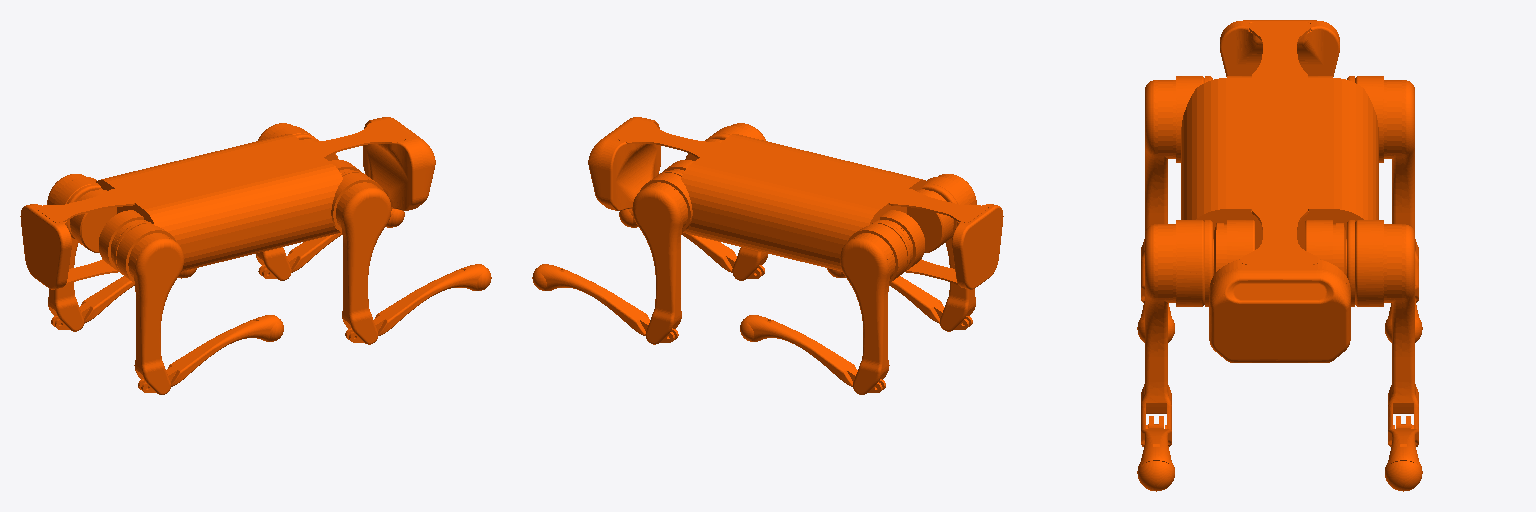
--- Facts derived from the render (not from the file) ---
Views: 3 orthographic renders of the robot side by side, from view 1: azimuth 30°, elevation 25°; view 2: azimuth 150°, elevation 25°; view 3: azimuth 270°, elevation 25°.
Robot: a1_description — 23 links, 22 joints (12 revolute, 10 fixed); root link base; default pose: all joints at 0 but 4 set to mid-range because 0 is outside their limits (FR_calf_joint = -1.81, FL_calf_joint = -1.81, RR_calf_joint = -1.81, RL_calf_joint = -1.81).
Visible links, largest first — view 1: trunk, RR_thigh, FR_thigh, FR_calf, RR_calf, RL_thigh, RL_hip, FL_thigh, RL_calf, FL_calf, RR_hip; view 2: trunk, RL_thigh, FL_thigh, FL_calf, RR_thigh, RL_calf, RR_hip, FR_thigh, RR_calf, FR_calf, RL_hip; view 3: trunk, FL_thigh, FR_thigh, RR_thigh, RL_thigh, FR_calf, FL_calf, FR_hip, FL_hip.
Link boxes in pixels (bbox=[...]): trunk: bbox=[20, 117, 435, 289]; RR_thigh: bbox=[114, 221, 183, 394]; FR_thigh: bbox=[331, 171, 391, 344]; FR_calf: bbox=[345, 264, 491, 342]; RR_calf: bbox=[138, 315, 283, 392]; RL_thigh: bbox=[47, 174, 101, 331]; RL_hip: bbox=[70, 189, 116, 252]; FL_thigh: bbox=[256, 123, 318, 280]; RL_calf: bbox=[51, 268, 196, 329]; FL_calf: bbox=[258, 209, 404, 278]; RR_hip: bbox=[99, 210, 145, 270]; trunk: bbox=[588, 117, 1003, 289]; RL_thigh: bbox=[840, 221, 909, 394]; FL_thigh: bbox=[632, 171, 692, 344]; FL_calf: bbox=[532, 264, 678, 342]; RR_thigh: bbox=[922, 174, 976, 331]; RL_calf: bbox=[740, 315, 885, 392]; RR_hip: bbox=[907, 189, 953, 252]; FR_thigh: bbox=[705, 123, 767, 280]; RR_calf: bbox=[827, 268, 972, 329]; FR_calf: bbox=[619, 209, 764, 278]; RL_hip: bbox=[878, 210, 924, 270]; trunk: bbox=[1181, 20, 1378, 362]; FL_thigh: bbox=[1346, 220, 1418, 446]; FR_thigh: bbox=[1141, 220, 1213, 446]; RR_thigh: bbox=[1141, 76, 1212, 302]; RL_thigh: bbox=[1347, 76, 1418, 302]; FR_calf: bbox=[1137, 416, 1174, 491]; FL_calf: bbox=[1385, 416, 1422, 491]; FR_hip: bbox=[1214, 220, 1254, 274]; FL_hip: bbox=[1305, 220, 1345, 274].
Size in the robot's own frame: 0.706 by 0.3016 by 0.2695 metres.
Meshes: 5 distinct files referenced, 13 mesh visuals loaded (5 Collada DAE).

URDF robot description (a1_description):
<?xml version="1.0" encoding="utf-8"?>
<!-- =================================================================================== -->
<!-- |    This document was autogenerated by xacro from robot.xacro                    | -->
<!-- |    EDITING THIS FILE BY HAND IS NOT RECOMMENDED                                 | -->
<!-- =================================================================================== -->
<robot name="a1_description">
  <!-- dynamics inertial value -->
  <!-- trunk -->
  <!-- <xacro:property name="trunk_mass" value="5.660"/>
    <xacro:property name="trunk_com_x" value="0.012731"/>
    <xacro:property name="trunk_com_y" value="0.002186"/>
    <xacro:property name="trunk_com_z" value="0.000515"/>
    <xacro:property name="trunk_ixx" value="0.016839930"/>
    <xacro:property name="trunk_ixy" value="0.000083902"/>
    <xacro:property name="trunk_ixz" value="0.000597679"/>
    <xacro:property name="trunk_iyy" value="0.056579028"/>
    <xacro:property name="trunk_iyz" value="0.000025134"/>
    <xacro:property name="trunk_izz" value="0.064713601"/> -->
  <material name="black">
    <color rgba="0.0 0.0 0.0 1.0"/>
  </material>
  <material name="blue">
    <color rgba="0.0 0.0 0.8 1.0"/>
  </material>
  <material name="green">
    <color rgba="0.0 0.8 0.0 1.0"/>
  </material>
  <material name="grey">
    <color rgba="0.2 0.2 0.2 1.0"/>
  </material>
  <material name="silver">
    <color rgba="0.913725490196 0.913725490196 0.847058823529 1.0"/>
  </material>
  <material name="orange">
    <color rgba="1.0 0.423529411765 0.0392156862745 1.0"/>
  </material>
  <material name="brown">
    <color rgba="0.870588235294 0.811764705882 0.764705882353 1.0"/>
  </material>
  <material name="red">
    <color rgba="0.8 0.0 0.0 1.0"/>
  </material>
  <material name="white">
    <color rgba="1.0 1.0 1.0 1.0"/>
  </material>
  <!-- ros_control plugin -->
  <gazebo>
    <plugin filename="libgazebo_ros_control.so" name="gazebo_ros_control">
      <robotNamespace>/a1_gazebo</robotNamespace>
      <robotSimType>gazebo_ros_control/DefaultRobotHWSim</robotSimType>
    </plugin>
  </gazebo>
  <!-- Show the trajectory of trunk center. -->
  <!-- <gazebo>
    <plugin filename="libnewLinkPlot3DPlugin.so" name="3dplotTrunk">
      <frequency>10</frequency>
      <plot>
        <link>base</link>
        <pose>0 0 0 0 0 0</pose>
        <material>Gazebo/Yellow</material>
      </plot>
    </plugin>
  </gazebo> -->
  <!-- Show the trajectory of foot. You can add another trajectory about another foot. -->
  <!-- <gazebo>
    <plugin filename="libnewLinkPlot3DPlugin.so" name="3dplot">
      <frequency>1000</frequency>
      <plot>
        <link>FR_calf</link>
        <pose>0 0 -0.2 0 0 0</pose>
        <material>Gazebo/Yellow</material>
      </plot>
    </plugin>
  </gazebo>
  <gazebo>
    <plugin filename="libnewLinkPlot3DPlugin.so" name="3dplot">
      <frequency>1000</frequency>
      <plot>
        <link>FL_calf</link>
        <pose>0 0 -0.2 0 0 0</pose>
        <material>Gazebo/Red</material>
      </plot>
    </plugin>
  </gazebo>
  <gazebo>
    <plugin filename="libnewLinkPlot3DPlugin.so" name="3dplot">
      <frequency>1000</frequency>
      <plot>
        <link>RR_calf</link>
        <pose>0 0 -0.2 0 0 0</pose>
        <material>Gazebo/Blue</material>
      </plot>
    </plugin>
  </gazebo>
  <gazebo>
    <plugin filename="libnewLinkPlot3DPlugin.so" name="3dplot">
      <frequency>1000</frequency>
      <plot>
        <link>RL_calf</link>
        <pose>0 0 -0.2 0 0 0</pose>
        <material>Gazebo/Black</material>
      </plot>
    </plugin>
  </gazebo> -->
  <gazebo>
    <plugin filename="libgazebo_ros_force.so" name="gazebo_ros_force">
      <bodyName>trunk</bodyName>
      <topicName>/apply_force/trunk</topicName>
    </plugin>
  </gazebo>
  <gazebo reference="imu_link">
    <gravity>true</gravity>
    <sensor name="imu_sensor" type="imu">
      <always_on>true</always_on>
      <update_rate>1000</update_rate>
      <visualize>true</visualize>
      <topic>__default_topic__</topic>
      <plugin filename="libgazebo_ros_imu_sensor.so" name="imu_plugin">
        <topicName>trunk_imu</topicName>
        <bodyName>imu_link</bodyName>
        <updateRateHZ>1000.0</updateRateHZ>
        <gaussianNoise>0.0</gaussianNoise>
        <xyzOffset>0 0 0</xyzOffset>
        <rpyOffset>0 0 0</rpyOffset>
        <frameName>imu_link</frameName>
      </plugin>
      <pose>0 0 0 0 0 0</pose>
    </sensor>
  </gazebo>
  <!-- Foot contacts. -->
  <gazebo reference="FR_calf">
    <sensor name="FR_foot_contact" type="contact">
      <update_rate>100</update_rate>
      <plugin filename="libunitreeFootContactPlugin.so" name="contactPlugin"/>
      <contact>
        <collision>FR_calf_fixed_joint_lump__FR_foot_collision_1</collision>
      </contact>
    </sensor>
  </gazebo>
  <gazebo reference="FL_calf">
    <sensor name="FL_foot_contact" type="contact">
      <update_rate>100</update_rate>
      <plugin filename="libunitreeFootContactPlugin.so" name="contactPlugin"/>
      <contact>
        <collision>FL_calf_fixed_joint_lump__FL_foot_collision_1</collision>
      </contact>
    </sensor>
  </gazebo>
  <gazebo reference="RR_calf">
    <sensor name="RR_foot_contact" type="contact">
      <update_rate>100</update_rate>
      <plugin filename="libunitreeFootContactPlugin.so" name="contactPlugin"/>
      <contact>
        <collision>RR_calf_fixed_joint_lump__RR_foot_collision_1</collision>
      </contact>
    </sensor>
  </gazebo>
  <gazebo reference="RL_calf">
    <sensor name="RL_foot_contact" type="contact">
      <update_rate>100</update_rate>
      <plugin filename="libunitreeFootContactPlugin.so" name="contactPlugin"/>
      <contact>
        <collision>RL_calf_fixed_joint_lump__RL_foot_collision_1</collision>
      </contact>
    </sensor>
  </gazebo>
  <!-- Visualization of Foot contacts. -->
  <!-- <gazebo reference="FR_foot">
    <visual>
      <plugin filename="libunitreeDrawForcePlugin.so" name="drawForcePlugin">
        <topicName>FR_foot_contact</topicName>
      </plugin>
    </visual>
  </gazebo>
  <gazebo reference="FL_foot">
    <visual>
      <plugin filename="libunitreeDrawForcePlugin.so" name="drawForcePlugin">
        <topicName>FL_foot_contact</topicName>
      </plugin>
    </visual>
  </gazebo>
  <gazebo reference="RR_foot">
    <visual>
      <plugin filename="libunitreeDrawForcePlugin.so" name="drawForcePlugin">
        <topicName>RR_foot_contact</topicName>
      </plugin>
    </visual>
  </gazebo>
  <gazebo reference="RL_foot">
    <visual>
      <plugin filename="libunitreeDrawForcePlugin.so" name="drawForcePlugin">
        <topicName>RL_foot_contact</topicName>
      </plugin>
    </visual>
  </gazebo> -->
  
  <gazebo reference="base">
    <material>Gazebo/Green</material>
    <turnGravityOff>false</turnGravityOff>
  </gazebo>
  <gazebo reference="trunk">
    <mu1>0.2</mu1>
    <mu2>0.2</mu2>
    <kp value="1000000.0"/>
    <kd value="1.0"/>
  </gazebo>
  <gazebo reference="stick_link">
    <mu1>0.2</mu1>
    <mu2>0.2</mu2>
    <material>Gazebo/White</material>
  </gazebo>
  <gazebo reference="imu_link">
    <mu1>0.2</mu1>
    <mu2>0.2</mu2>
    <material>Gazebo/Red</material>
  </gazebo>
  <!-- FL leg -->
  <gazebo reference="FL_hip">
    <mu1>0.2</mu1>
    <mu2>0.2</mu2>
    <material>Gazebo/DarkGrey</material>
  </gazebo>
  <gazebo reference="FL_thigh">
    <mu1>0.2</mu1>
    <mu2>0.2</mu2>
    <self_collide>1</self_collide>
    <material>Gazebo/DarkGrey</material>
    <kp value="1000000.0"/>
    <kd value="1.0"/>
  </gazebo>
  <gazebo reference="FL_calf">
    <mu1>0.2</mu1>
    <mu2>0.2</mu2>
    <self_collide>1</self_collide>
  </gazebo>
  <gazebo reference="FL_foot">
    <mu1>0.6</mu1>
    <mu2>0.6</mu2>
    <self_collide>1</self_collide>
    <material>Gazebo/DarkGrey</material>
    <kp value="1000000.0"/>
    <kd value="1.0"/>
  </gazebo>
  <!-- FR leg -->
  <gazebo reference="FR_hip">
    <mu1>0.2</mu1>
    <mu2>0.2</mu2>
    <material>Gazebo/DarkGrey</material>
  </gazebo>
  <gazebo reference="FR_thigh">
    <mu1>0.2</mu1>
    <mu2>0.2</mu2>
    <self_collide>1</self_collide>
    <material>Gazebo/DarkGrey</material>
    <kp value="1000000.0"/>
    <kd value="1.0"/>
  </gazebo>
  <gazebo reference="FR_calf">
    <mu1>0.2</mu1>
    <mu2>0.2</mu2>
    <self_collide>1</self_collide>
  </gazebo>
  <gazebo reference="FR_foot">
    <mu1>0.6</mu1>
    <mu2>0.6</mu2>
    <self_collide>1</self_collide>
    <material>Gazebo/DarkGrey</material>
    <kp value="1000000.0"/>
    <kd value="1.0"/>
  </gazebo>
  <!-- RL leg -->
  <gazebo reference="RL_hip">
    <mu1>0.2</mu1>
    <mu2>0.2</mu2>
    <material>Gazebo/DarkGrey</material>
  </gazebo>
  <gazebo reference="RL_thigh">
    <mu1>0.2</mu1>
    <mu2>0.2</mu2>
    <self_collide>1</self_collide>
    <material>Gazebo/DarkGrey</material>
    <kp value="1000000.0"/>
    <kd value="1.0"/>
  </gazebo>
  <gazebo reference="RL_calf">
    <mu1>0.2</mu1>
    <mu2>0.2</mu2>
    <self_collide>1</self_collide>
  </gazebo>
  <gazebo reference="RL_foot">
    <mu1>0.6</mu1>
    <mu2>0.6</mu2>
    <self_collide>1</self_collide>
    <material>Gazebo/DarkGrey</material>
    <kp value="1000000.0"/>
    <kd value="1.0"/>
  </gazebo>
  <!-- RR leg -->
  <gazebo reference="RR_hip">
    <mu1>0.2</mu1>
    <mu2>0.2</mu2>
    <material>Gazebo/DarkGrey</material>
  </gazebo>
  <gazebo reference="RR_thigh">
    <mu1>0.2</mu1>
    <mu2>0.2</mu2>
    <self_collide>1</self_collide>
    <material>Gazebo/DarkGrey</material>
    <kp value="1000000.0"/>
    <kd value="1.0"/>
  </gazebo>
  <gazebo reference="RR_calf">
    <mu1>0.2</mu1>
    <mu2>0.2</mu2>
    <self_collide>1</self_collide>
  </gazebo>
  <gazebo reference="RR_foot">
    <mu1>0.6</mu1>
    <mu2>0.6</mu2>
    <self_collide>1</self_collide>
    <material>Gazebo/DarkGrey</material>
    <kp value="1000000.0"/>
    <kd value="1.0"/>
  </gazebo>
  <!-- <xacro:include filename="$(find a1_gazebo)/launch/stairs.urdf.xacro"/> -->
  <!-- <xacro:stairs stairs="15" xpos="0" ypos="0" zpos="0" /> -->
  <!-- Debug mode will hung up the robot, use "true" or "false" to switch it. -->
  <!-- <xacro:if value="$(arg DEBUG)">
        <link name="world"/>
        <joint name="base_static_joint" type="fixed">
            <origin rpy="0 0 0" xyz="0 0 0"/>
            <parent link="world"/>
            <child link="base"/>
        </joint>
    </xacro:if>  -->
  <link name="base">
    <visual>
      <origin rpy="0 0 0" xyz="0 0 0"/>
      <geometry>
        <box size="0.001 0.001 0.001"/>
      </geometry>
    </visual>
  </link>
  <joint name="floating_base" type="fixed">
    <origin rpy="0 0 0" xyz="0 0 0"/>
    <parent link="base"/>
    <child link="trunk"/>
  </joint>
  <link name="trunk">
    <visual>
      <origin rpy="0 0 0" xyz="0 0 0"/>
      <geometry>
        <mesh filename="package://a1_description/meshes/trunk.dae" scale="1 1 1"/>
      </geometry>
      <material name="orange"/>
    </visual>
    <collision>
      <origin rpy="0 0 0" xyz="0 0 0"/>
      <geometry>
        <box size="0.267 0.194 0.114"/>
      </geometry>
    </collision>
    <inertial>
      <origin rpy="0 0 0" xyz="0.0 0.0041 -0.0005"/>
      <mass value="6.0"/>
      <inertia ixx="0.0158533" ixy="-3.66e-05" ixz="-6.11e-05" iyy="0.0377999" iyz="-2.75e-05" izz="0.0456542"/>
    </inertial>
  </link>
  <joint name="imu_joint" type="fixed">
    <parent link="trunk"/>
    <child link="imu_link"/>
    <origin rpy="0 0 0" xyz="0 0 0"/>
  </joint>
  <link name="imu_link">
    <inertial>
      <mass value="0.001"/>
      <origin rpy="0 0 0" xyz="0 0 0"/>
      <inertia ixx="0.0001" ixy="0" ixz="0" iyy="0.0001" iyz="0" izz="0.0001"/>
    </inertial>
    <visual>
      <origin rpy="0 0 0" xyz="0 0 0"/>
      <geometry>
        <box size="0.001 0.001 0.001"/>
      </geometry>
      <material name="red"/>
    </visual>
    <collision>
      <origin rpy="0 0 0" xyz="0 0 0"/>
      <geometry>
        <box size=".001 .001 .001"/>
      </geometry>
    </collision>
  </link>
  <joint name="FR_hip_joint" type="revolute">
    <origin rpy="0 0 0" xyz="0.1805 -0.047 0"/>
    <parent link="trunk"/>
    <child link="FR_hip"/>
    <axis xyz="1 0 0"/>
    <dynamics damping="0.01" friction="0.2"/>
    <limit effort="33.5" lower="-0.802851455917" upper="0.802851455917" velocity="21"/>
  </joint>
  <link name="FR_hip">
    <visual>
      <origin rpy="3.14159265359 0 0" xyz="0 0 0"/>
      <geometry>
        <mesh filename="package://a1_description/meshes/hip.dae" scale="1 1 1"/>
      </geometry>
      <material name="orange"/>
    </visual>
    <collision>
      <origin rpy="1.57079632679 0 0" xyz="0 0 0"/>
      <geometry>
        <cylinder length="0.04" radius="0.046"/>
      </geometry>
    </collision>
    <inertial>
      <origin rpy="0 0 0" xyz="-0.003311 -0.000635 3.1e-05"/>
      <mass value="0.696"/>
      <inertia ixx="0.000469246" ixy="9.409e-06" ixz="-3.42e-07" iyy="0.00080749" iyz="4.66e-07" izz="0.000552929"/>
    </inertial>
  </link>
  <joint name="FR_hip_fixed" type="fixed">
    <origin rpy="0 0 0" xyz="0 -0.081 0"/>
    <parent link="FR_hip"/>
    <child link="FR_thigh_shoulder"/>
  </joint>
  <!-- this link is only for collision -->
  <link name="FR_thigh_shoulder">
    <collision>
      <origin rpy="1.57079632679 0 0" xyz="0 0 0"/>
      <geometry>
        <cylinder length="0.032" radius="0.041"/>
      </geometry>
    </collision>
  </link>
  <joint name="FR_thigh_joint" type="revolute">
    <origin rpy="0 0 0" xyz="0 -0.0838 0"/>
    <parent link="FR_hip"/>
    <child link="FR_thigh"/>
    <axis xyz="0 1 0"/>
    <dynamics damping="0.01" friction="0.2"/>
    <limit effort="33.5" lower="-1.0471975512" upper="4.18879020479" velocity="21"/>
  </joint>
  <link name="FR_thigh">
    <visual>
      <origin rpy="0 0 0" xyz="0 0 0"/>
      <geometry>
        <mesh filename="package://a1_description/meshes/thigh_mirror.dae" scale="1 1 1"/>
      </geometry>
      <material name="orange"/>
    </visual>
    <collision>
      <origin rpy="0 1.57079632679 0" xyz="0 0 -0.1"/>
      <geometry>
        <box size="0.2 0.0245 0.034"/>
      </geometry>
    </collision>
    <inertial>
      <origin rpy="0 0 0" xyz="-0.003237 0.022327 -0.027326"/>
      <mass value="1.013"/>
      <inertia ixx="0.005529065" ixy="-4.825e-06" ixz="0.000343869" iyy="0.005139339" iyz="-2.2448e-05" izz="0.001367788"/>
    </inertial>
  </link>
  <joint name="FR_calf_joint" type="revolute">
    <origin rpy="0 0 0" xyz="0 0 -0.2"/>
    <parent link="FR_thigh"/>
    <child link="FR_calf"/>
    <axis xyz="0 1 0"/>
    <dynamics damping="0.01" friction="0.2"/>
    <limit effort="33.5" lower="-2.69653369433" upper="-0.916297857297" velocity="21"/>
  </joint>
  <link name="FR_calf">
    <visual>
      <origin rpy="0 0 0" xyz="0 0 0"/>
      <geometry>
        <mesh filename="package://a1_description/meshes/calf.dae" scale="1 1 1"/>
      </geometry>
      <material name="orange"/>
    </visual>
    <collision>
      <origin rpy="0 1.57079632679 0" xyz="0 0 -0.1"/>
      <geometry>
        <box size="0.2 0.016 0.016"/>
      </geometry>
    </collision>
    <inertial>
      <origin rpy="0 0 0" xyz="0.006435 0.0 -0.107388"/>
      <mass value="0.166"/>
      <inertia ixx="0.002997972" ixy="0.0" ixz="-0.000141163" iyy="0.003014022" iyz="0.0" izz="3.2426e-05"/>
    </inertial>
  </link>
  <joint name="FR_foot_fixed" type="fixed">
    <origin rpy="0 0 0" xyz="0 0 -0.2"/>
    <parent link="FR_calf"/>
    <child link="FR_foot"/>
  </joint>
  <link name="FR_foot">
    <visual>
      <origin rpy="0 0 0" xyz="0 0 0"/>
      <geometry>
        <sphere radius="0.01"/>
      </geometry>
      <material name="orange"/>
    </visual>
    <collision>
      <origin rpy="0 0 0" xyz="0 0 0"/>
      <geometry>
        <sphere radius="0.02"/>
      </geometry>
    </collision>
    <inertial>
      <mass value="0.06"/>
      <inertia ixx="9.6e-06" ixy="0.0" ixz="0.0" iyy="9.6e-06" iyz="0.0" izz="9.6e-06"/>
    </inertial>
  </link>
  <transmission name="FR_hip_tran">
    <type>transmission_interface/SimpleTransmission</type>
    <joint name="FR_hip_joint">
      <hardwareInterface>hardware_interface/EffortJointInterface</hardwareInterface>
    </joint>
    <actuator name="FR_hip_motor">
      <hardwareInterface>hardware_interface/EffortJointInterface</hardwareInterface>
      <mechanicalReduction>1</mechanicalReduction>
    </actuator>
  </transmission>
  <transmission name="FR_thigh_tran">
    <type>transmission_interface/SimpleTransmission</type>
    <joint name="FR_thigh_joint">
      <hardwareInterface>hardware_interface/EffortJointInterface</hardwareInterface>
    </joint>
    <actuator name="FR_thigh_motor">
      <hardwareInterface>hardware_interface/EffortJointInterface</hardwareInterface>
      <mechanicalReduction>1</mechanicalReduction>
    </actuator>
  </transmission>
  <transmission name="FR_calf_tran">
    <type>transmission_interface/SimpleTransmission</type>
    <joint name="FR_calf_joint">
      <hardwareInterface>hardware_interface/EffortJointInterface</hardwareInterface>
    </joint>
    <actuator name="FR_calf_motor">
      <hardwareInterface>hardware_interface/EffortJointInterface</hardwareInterface>
      <mechanicalReduction>1</mechanicalReduction>
    </actuator>
  </transmission>
  <joint name="FL_hip_joint" type="revolute">
    <origin rpy="0 0 0" xyz="0.1805 0.047 0"/>
    <parent link="trunk"/>
    <child link="FL_hip"/>
    <axis xyz="1 0 0"/>
    <dynamics damping="0.01" friction="0.2"/>
    <limit effort="33.5" lower="-0.802851455917" upper="0.802851455917" velocity="21"/>
  </joint>
  <link name="FL_hip">
    <visual>
      <origin rpy="0 0 0" xyz="0 0 0"/>
      <geometry>
        <mesh filename="package://a1_description/meshes/hip.dae" scale="1 1 1"/>
      </geometry>
      <material name="orange"/>
    </visual>
    <collision>
      <origin rpy="1.57079632679 0 0" xyz="0 0 0"/>
      <geometry>
        <cylinder length="0.04" radius="0.046"/>
      </geometry>
    </collision>
    <inertial>
      <origin rpy="0 0 0" xyz="-0.003311 0.000635 3.1e-05"/>
      <mass value="0.696"/>
      <inertia ixx="0.000469246" ixy="-9.409e-06" ixz="-3.42e-07" iyy="0.00080749" iyz="-4.66e-07" izz="0.000552929"/>
    </inertial>
  </link>
  <joint name="FL_hip_fixed" type="fixed">
    <origin rpy="0 0 0" xyz="0 0.081 0"/>
    <parent link="FL_hip"/>
    <child link="FL_thigh_shoulder"/>
  </joint>
  <!-- this link is only for collision -->
  <link name="FL_thigh_shoulder">
    <collision>
      <origin rpy="1.57079632679 0 0" xyz="0 0 0"/>
      <geometry>
        <cylinder length="0.032" radius="0.041"/>
      </geometry>
    </collision>
  </link>
  <joint name="FL_thigh_joint" type="revolute">
    <origin rpy="0 0 0" xyz="0 0.0838 0"/>
    <parent link="FL_hip"/>
    <child link="FL_thigh"/>
    <axis xyz="0 1 0"/>
    <dynamics damping="0.01" friction="0.2"/>
    <limit effort="33.5" lower="-1.0471975512" upper="4.18879020479" velocity="21"/>
  </joint>
  <link name="FL_thigh">
    <visual>
      <origin rpy="0 0 0" xyz="0 0 0"/>
      <geometry>
        <mesh filename="package://a1_description/meshes/thigh.dae" scale="1 1 1"/>
      </geometry>
      <material name="orange"/>
    </visual>
    <collision>
      <origin rpy="0 1.57079632679 0" xyz="0 0 -0.1"/>
      <geometry>
        <box size="0.2 0.0245 0.034"/>
      </geometry>
    </collision>
    <inertial>
      <origin rpy="0 0 0" xyz="-0.003237 -0.022327 -0.027326"/>
      <mass value="1.013"/>
      <inertia ixx="0.005529065" ixy="4.825e-06" ixz="0.000343869" iyy="0.005139339" iyz="2.2448e-05" izz="0.001367788"/>
    </inertial>
  </link>
  <joint name="FL_calf_joint" type="revolute">
    <origin rpy="0 0 0" xyz="0 0 -0.2"/>
    <parent link="FL_thigh"/>
    <child link="FL_calf"/>
    <axis xyz="0 1 0"/>
    <dynamics damping="0.01" friction="0.2"/>
    <limit effort="33.5" lower="-2.69653369433" upper="-0.916297857297" velocity="21"/>
  </joint>
  <link name="FL_calf">
    <visual>
      <origin rpy="0 0 0" xyz="0 0 0"/>
      <geometry>
        <mesh filename="package://a1_description/meshes/calf.dae" scale="1 1 1"/>
      </geometry>
      <material name="orange"/>
    </visual>
    <collision>
      <origin rpy="0 1.57079632679 0" xyz="0 0 -0.1"/>
      <geometry>
        <box size="0.2 0.016 0.016"/>
      </geometry>
    </collision>
    <inertial>
      <origin rpy="0 0 0" xyz="0.006435 0.0 -0.107388"/>
      <mass value="0.166"/>
      <inertia ixx="0.002997972" ixy="0.0" ixz="-0.000141163" iyy="0.003014022" iyz="0.0" izz="3.2426e-05"/>
    </inertial>
  </link>
  <joint name="FL_foot_fixed" type="fixed">
    <origin rpy="0 0 0" xyz="0 0 -0.2"/>
    <parent link="FL_calf"/>
    <child link="FL_foot"/>
  </joint>
  <link name="FL_foot">
    <visual>
      <origin rpy="0 0 0" xyz="0 0 0"/>
      <geometry>
        <sphere radius="0.01"/>
      </geometry>
      <material name="orange"/>
    </visual>
    <collision>
      <origin rpy="0 0 0" xyz="0 0 0"/>
      <geometry>
        <sphere radius="0.02"/>
      </geometry>
    </collision>
    <inertial>
      <mass value="0.06"/>
      <inertia ixx="9.6e-06" ixy="0.0" ixz="0.0" iyy="9.6e-06" iyz="0.0" izz="9.6e-06"/>
    </inertial>
  </link>
  <transmission name="FL_hip_tran">
    <type>transmission_interface/SimpleTransmission</type>
    <joint name="FL_hip_joint">
      <hardwareInterface>hardware_interface/EffortJointInterface</hardwareInterface>
    </joint>
    <actuator name="FL_hip_motor">
      <hardwareInterface>hardware_interface/EffortJointInterface</hardwareInterface>
      <mechanicalReduction>1</mechanicalReduction>
    </actuator>
  </transmission>
  <transmission name="FL_thigh_tran">
    <type>transmission_interface/SimpleTransmission</type>
    <joint name="FL_thigh_joint">
      <hardwareInterface>hardware_interface/EffortJointInterface</hardwareInterface>
    </joint>
    <actuator name="FL_thigh_motor">
      <hardwareInterface>hardware_interface/EffortJointInterface</hardwareInterface>
      <mechanicalReduction>1</mechanicalReduction>
    </actuator>
  </transmission>
  <transmission name="FL_calf_tran">
    <type>transmission_interface/SimpleTransmission</type>
    <joint name="FL_calf_joint">
      <hardwareInterface>hardware_interface/EffortJointInterface</hardwareInterface>
    </joint>
    <actuator name="FL_calf_motor">
      <hardwareInterface>hardware_interface/EffortJointInterface</hardwareInterface>
      <mechanicalReduction>1</mechanicalReduction>
    </actuator>
  </transmission>
  <joint name="RR_hip_joint" type="revolute">
    <origin rpy="0 0 0" xyz="-0.1805 -0.047 0"/>
    <parent link="trunk"/>
    <child link="RR_hip"/>
    <axis xyz="1 0 0"/>
    <dynamics damping="0.01" friction="0.2"/>
    <limit effort="33.5" lower="-0.802851455917" upper="0.802851455917" velocity="21"/>
  </joint>
  <link name="RR_hip">
    <visual>
      <origin rpy="3.14159265359 3.14159265359 0" xyz="0 0 0"/>
      <geometry>
        <mesh filename="package://a1_description/meshes/hip.dae" scale="1 1 1"/>
      </geometry>
      <material name="orange"/>
    </visual>
    <collision>
      <origin rpy="1.57079632679 0 0" xyz="0 0 0"/>
      <geometry>
        <cylinder length="0.04" radius="0.046"/>
      </geometry>
    </collision>
    <inertial>
      <origin rpy="0 0 0" xyz="0.003311 -0.000635 3.1e-05"/>
      <mass value="0.696"/>
      <inertia ixx="0.000469246" ixy="-9.409e-06" ixz="3.42e-07" iyy="0.00080749" iyz="4.66e-07" izz="0.000552929"/>
    </inertial>
  </link>
  <joint name="RR_hip_fixed" type="fixed">
    <origin rpy="0 0 0" xyz="0 -0.081 0"/>
    <parent link="RR_hip"/>
    <child link="RR_thigh_shoulder"/>
  </joint>
  <!-- this link is only for collision -->
  <link name="RR_thigh_shoulder">
    <collision>
      <origin rpy="1.57079632679 0 0" xyz="0 0 0"/>
      <geometry>
        <cylinder length="0.032" radius="0.041"/>
      </geometry>
    </collision>
  </link>
  <joint name="RR_thigh_joint" type="revolute">
    <origin rpy="0 0 0" xyz="0 -0.0838 0"/>
    <parent link="RR_hip"/>
    <child link="RR_thigh"/>
    <axis xyz="0 1 0"/>
    <dynamics damping="0.01" friction="0.2"/>
    <limit effort="33.5" lower="-1.0471975512" upper="4.18879020479" velocity="21"/>
  </joint>
  <link name="RR_thigh">
    <visual>
      <origin rpy="0 0 0" xyz="0 0 0"/>
      <geometry>
        <mesh filename="package://a1_description/meshes/thigh_mirror.dae" scale="1 1 1"/>
      </geometry>
      <material name="orange"/>
    </visual>
    <collision>
      <origin rpy="0 1.57079632679 0" xyz="0 0 -0.1"/>
      <geometry>
        <box size="0.2 0.0245 0.034"/>
      </geometry>
    </collision>
    <inertial>
      <origin rpy="0 0 0" xyz="-0.003237 0.022327 -0.027326"/>
      <mass value="1.013"/>
      <inertia ixx="0.005529065" ixy="-4.825e-06" ixz="0.000343869" iyy="0.005139339" iyz="-2.2448e-05" izz="0.001367788"/>
    </inertial>
  </link>
  <joint name="RR_calf_joint" type="revolute">
    <origin rpy="0 0 0" xyz="0 0 -0.2"/>
    <parent link="RR_thigh"/>
    <child link="RR_calf"/>
    <axis xyz="0 1 0"/>
    <dynamics damping="0.01" friction="0.2"/>
    <limit effort="33.5" lower="-2.69653369433" upper="-0.916297857297" velocity="21"/>
  </joint>
  <link name="RR_calf">
    <visual>
      <origin rpy="0 0 0" xyz="0 0 0"/>
      <geometry>
        <mesh filename="package://a1_description/meshes/calf.dae" scale="1 1 1"/>
      </geometry>
      <material name="orange"/>
    </visual>
    <collision>
      <origin rpy="0 1.57079632679 0" xyz="0 0 -0.1"/>
      <geometry>
        <box size="0.2 0.016 0.016"/>
      </geometry>
    </collision>
    <inertial>
      <origin rpy="0 0 0" xyz="0.006435 0.0 -0.107388"/>
      <mass value="0.166"/>
      <inertia ixx="0.002997972" ixy="0.0" ixz="-0.000141163" iyy="0.003014022" iyz="0.0" izz="3.2426e-05"/>
    </inertial>
  </link>
  <joint name="RR_foot_fixed" type="fixed">
    <origin rpy="0 0 0" xyz="0 0 -0.2"/>
    <parent link="RR_calf"/>
    <child link="RR_foot"/>
  </joint>
  <link name="RR_foot">
    <visual>
      <origin rpy="0 0 0" xyz="0 0 0"/>
      <geometry>
        <sphere radius="0.01"/>
      </geometry>
      <material name="orange"/>
    </visual>
    <collision>
      <origin rpy="0 0 0" xyz="0 0 0"/>
      <geometry>
        <sphere radius="0.02"/>
      </geometry>
    </collision>
    <inertial>
      <mass value="0.06"/>
      <inertia ixx="9.6e-06" ixy="0.0" ixz="0.0" iyy="9.6e-06" iyz="0.0" izz="9.6e-06"/>
    </inertial>
  </link>
  <transmission name="RR_hip_tran">
    <type>transmission_interface/SimpleTransmission</type>
    <joint name="RR_hip_joint">
      <hardwareInterface>hardware_interface/EffortJointInterface</hardwareInterface>
    </joint>
    <actuator name="RR_hip_motor">
      <hardwareInterface>hardware_interface/EffortJointInterface</hardwareInterface>
      <mechanicalReduction>1</mechanicalReduction>
    </actuator>
  </transmission>
  <transmission name="RR_thigh_tran">
    <type>transmission_interface/SimpleTransmission</type>
    <joint name="RR_thigh_joint">
      <hardwareInterface>hardware_interface/EffortJointInterface</hardwareInterface>
    </joint>
    <actuator name="RR_thigh_motor">
      <hardwareInterface>hardware_interface/EffortJointInterface</hardwareInterface>
      <mechanicalReduction>1</mechanicalReduction>
    </actuator>
  </transmission>
  <transmission name="RR_calf_tran">
    <type>transmission_interface/SimpleTransmission</type>
    <joint name="RR_calf_joint">
      <hardwareInterface>hardware_interface/EffortJointInterface</hardwareInterface>
    </joint>
    <actuator name="RR_calf_motor">
      <hardwareInterface>hardware_interface/EffortJointInterface</hardwareInterface>
      <mechanicalReduction>1</mechanicalReduction>
    </actuator>
  </transmission>
  <joint name="RL_hip_joint" type="revolute">
    <origin rpy="0 0 0" xyz="-0.1805 0.047 0"/>
    <parent link="trunk"/>
    <child link="RL_hip"/>
    <axis xyz="1 0 0"/>
    <dynamics damping="0.01" friction="0.2"/>
    <limit effort="33.5" lower="-0.802851455917" upper="0.802851455917" velocity="21"/>
  </joint>
  <link name="RL_hip">
    <visual>
      <origin rpy="0 3.14159265359 0" xyz="0 0 0"/>
      <geometry>
        <mesh filename="package://a1_description/meshes/hip.dae" scale="1 1 1"/>
      </geometry>
      <material name="orange"/>
    </visual>
    <collision>
      <origin rpy="1.57079632679 0 0" xyz="0 0 0"/>
      <geometry>
        <cylinder length="0.04" radius="0.046"/>
      </geometry>
    </collision>
    <inertial>
      <origin rpy="0 0 0" xyz="0.003311 0.000635 3.1e-05"/>
      <mass value="0.696"/>
      <inertia ixx="0.000469246" ixy="9.409e-06" ixz="3.42e-07" iyy="0.00080749" iyz="-4.66e-07" izz="0.000552929"/>
    </inertial>
  </link>
  <joint name="RL_hip_fixed" type="fixed">
    <origin rpy="0 0 0" xyz="0 0.081 0"/>
    <parent link="RL_hip"/>
    <child link="RL_thigh_shoulder"/>
  </joint>
  <!-- this link is only for collision -->
  <link name="RL_thigh_shoulder">
    <collision>
      <origin rpy="1.57079632679 0 0" xyz="0 0 0"/>
      <geometry>
        <cylinder length="0.032" radius="0.041"/>
      </geometry>
    </collision>
  </link>
  <joint name="RL_thigh_joint" type="revolute">
    <origin rpy="0 0 0" xyz="0 0.0838 0"/>
    <parent link="RL_hip"/>
    <child link="RL_thigh"/>
    <axis xyz="0 1 0"/>
    <dynamics damping="0.01" friction="0.2"/>
    <limit effort="33.5" lower="-1.0471975512" upper="4.18879020479" velocity="21"/>
  </joint>
  <link name="RL_thigh">
    <visual>
      <origin rpy="0 0 0" xyz="0 0 0"/>
      <geometry>
        <mesh filename="package://a1_description/meshes/thigh.dae" scale="1 1 1"/>
      </geometry>
      <material name="orange"/>
    </visual>
    <collision>
      <origin rpy="0 1.57079632679 0" xyz="0 0 -0.1"/>
      <geometry>
        <box size="0.2 0.0245 0.034"/>
      </geometry>
    </collision>
    <inertial>
      <origin rpy="0 0 0" xyz="-0.003237 -0.022327 -0.027326"/>
      <mass value="1.013"/>
      <inertia ixx="0.005529065" ixy="4.825e-06" ixz="0.000343869" iyy="0.005139339" iyz="2.2448e-05" izz="0.001367788"/>
    </inertial>
  </link>
  <joint name="RL_calf_joint" type="revolute">
    <origin rpy="0 0 0" xyz="0 0 -0.2"/>
    <parent link="RL_thigh"/>
    <child link="RL_calf"/>
    <axis xyz="0 1 0"/>
    <dynamics damping="0.01" friction="0.2"/>
    <limit effort="33.5" lower="-2.69653369433" upper="-0.916297857297" velocity="21"/>
  </joint>
  <link name="RL_calf">
    <visual>
      <origin rpy="0 0 0" xyz="0 0 0"/>
      <geometry>
        <mesh filename="package://a1_description/meshes/calf.dae" scale="1 1 1"/>
      </geometry>
      <material name="orange"/>
    </visual>
    <collision>
      <origin rpy="0 1.57079632679 0" xyz="0 0 -0.1"/>
      <geometry>
        <box size="0.2 0.016 0.016"/>
      </geometry>
    </collision>
    <inertial>
      <origin rpy="0 0 0" xyz="0.006435 0.0 -0.107388"/>
      <mass value="0.166"/>
      <inertia ixx="0.002997972" ixy="0.0" ixz="-0.000141163" iyy="0.003014022" iyz="0.0" izz="3.2426e-05"/>
    </inertial>
  </link>
  <joint name="RL_foot_fixed" type="fixed">
    <origin rpy="0 0 0" xyz="0 0 -0.2"/>
    <parent link="RL_calf"/>
    <child link="RL_foot"/>
  </joint>
  <link name="RL_foot">
    <visual>
      <origin rpy="0 0 0" xyz="0 0 0"/>
      <geometry>
        <sphere radius="0.01"/>
      </geometry>
      <material name="orange"/>
    </visual>
    <collision>
      <origin rpy="0 0 0" xyz="0 0 0"/>
      <geometry>
        <sphere radius="0.02"/>
      </geometry>
    </collision>
    <inertial>
      <mass value="0.06"/>
      <inertia ixx="9.6e-06" ixy="0.0" ixz="0.0" iyy="9.6e-06" iyz="0.0" izz="9.6e-06"/>
    </inertial>
  </link>
  <transmission name="RL_hip_tran">
    <type>transmission_interface/SimpleTransmission</type>
    <joint name="RL_hip_joint">
      <hardwareInterface>hardware_interface/EffortJointInterface</hardwareInterface>
    </joint>
    <actuator name="RL_hip_motor">
      <hardwareInterface>hardware_interface/EffortJointInterface</hardwareInterface>
      <mechanicalReduction>1</mechanicalReduction>
    </actuator>
  </transmission>
  <transmission name="RL_thigh_tran">
    <type>transmission_interface/SimpleTransmission</type>
    <joint name="RL_thigh_joint">
      <hardwareInterface>hardware_interface/EffortJointInterface</hardwareInterface>
    </joint>
    <actuator name="RL_thigh_motor">
      <hardwareInterface>hardware_interface/EffortJointInterface</hardwareInterface>
      <mechanicalReduction>1</mechanicalReduction>
    </actuator>
  </transmission>
  <transmission name="RL_calf_tran">
    <type>transmission_interface/SimpleTransmission</type>
    <joint name="RL_calf_joint">
      <hardwareInterface>hardware_interface/EffortJointInterface</hardwareInterface>
    </joint>
    <actuator name="RL_calf_motor">
      <hardwareInterface>hardware_interface/EffortJointInterface</hardwareInterface>
      <mechanicalReduction>1</mechanicalReduction>
    </actuator>
  </transmission>
  <!-- <xacro:stairs stairs="15" xpos="0" ypos="2.0" zpos="0" /> -->
</robot>
